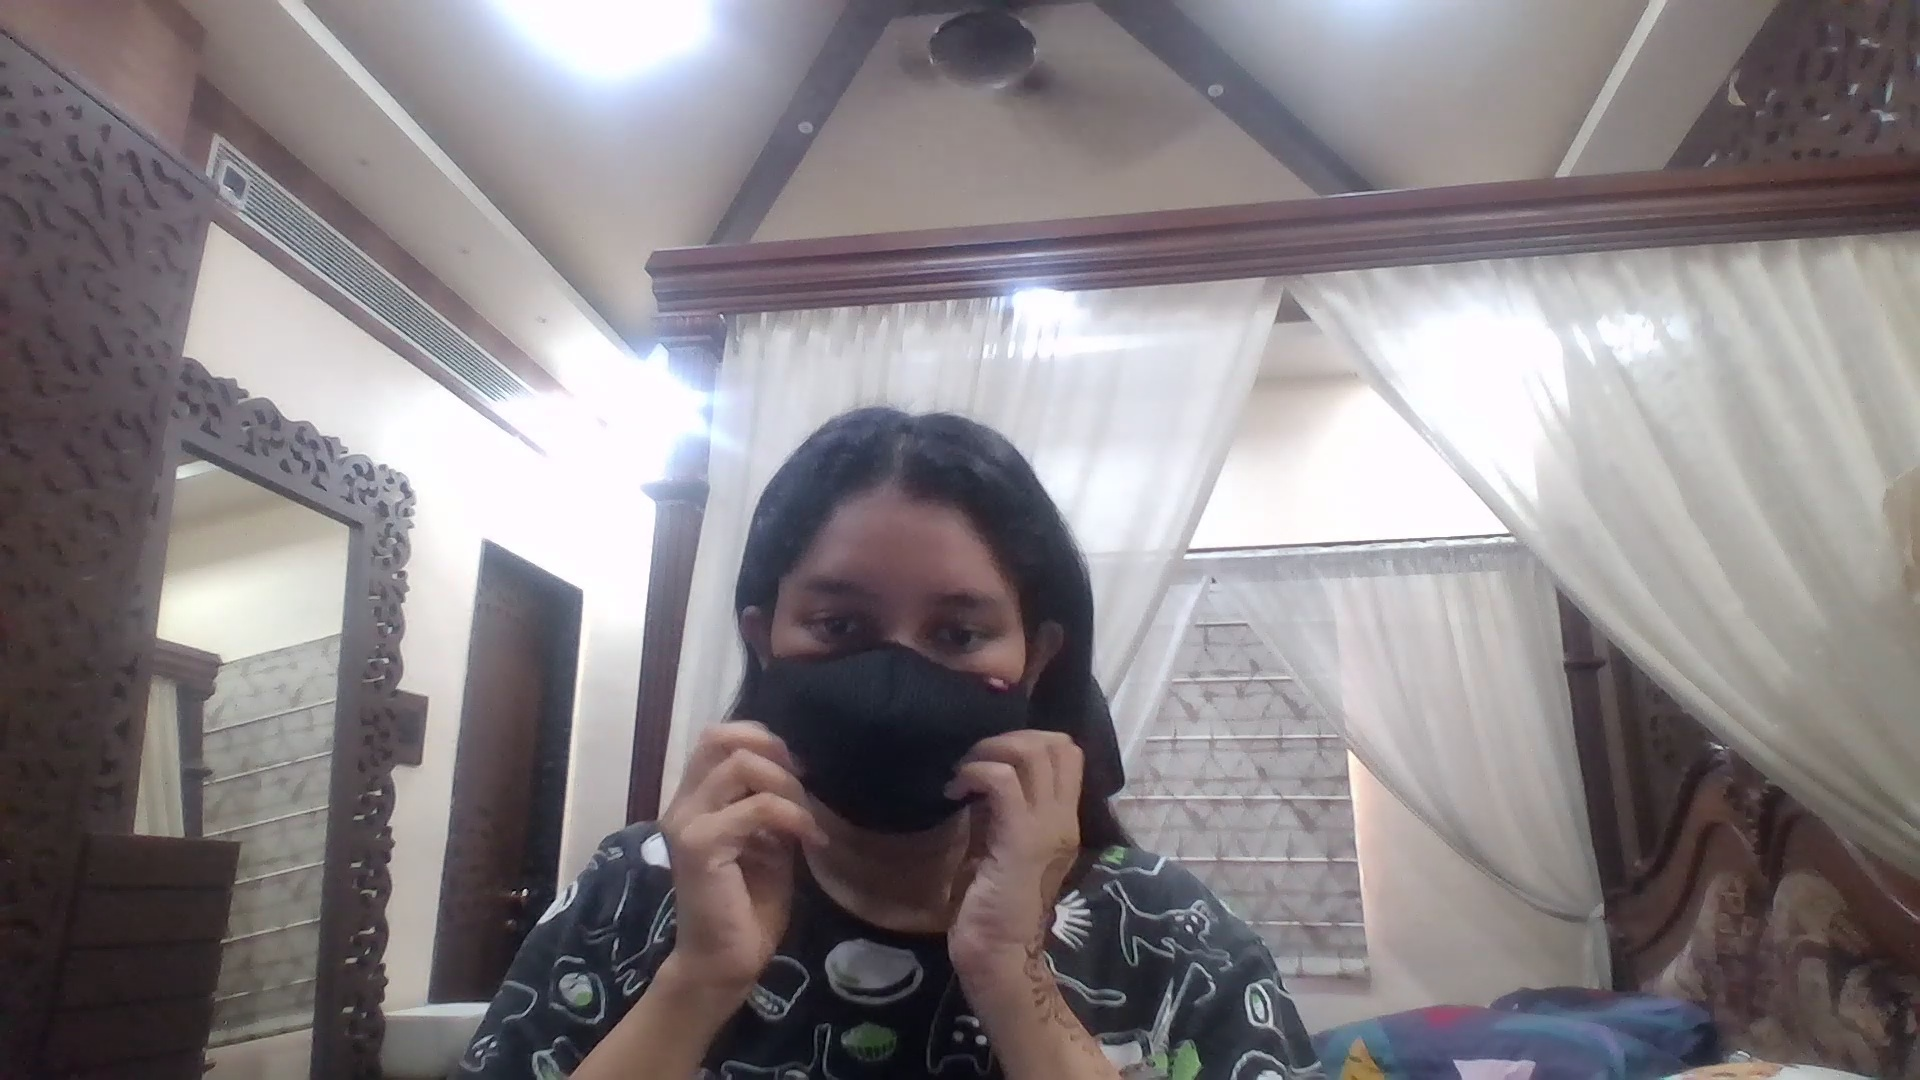Mask: (764, 656, 1001, 825)
